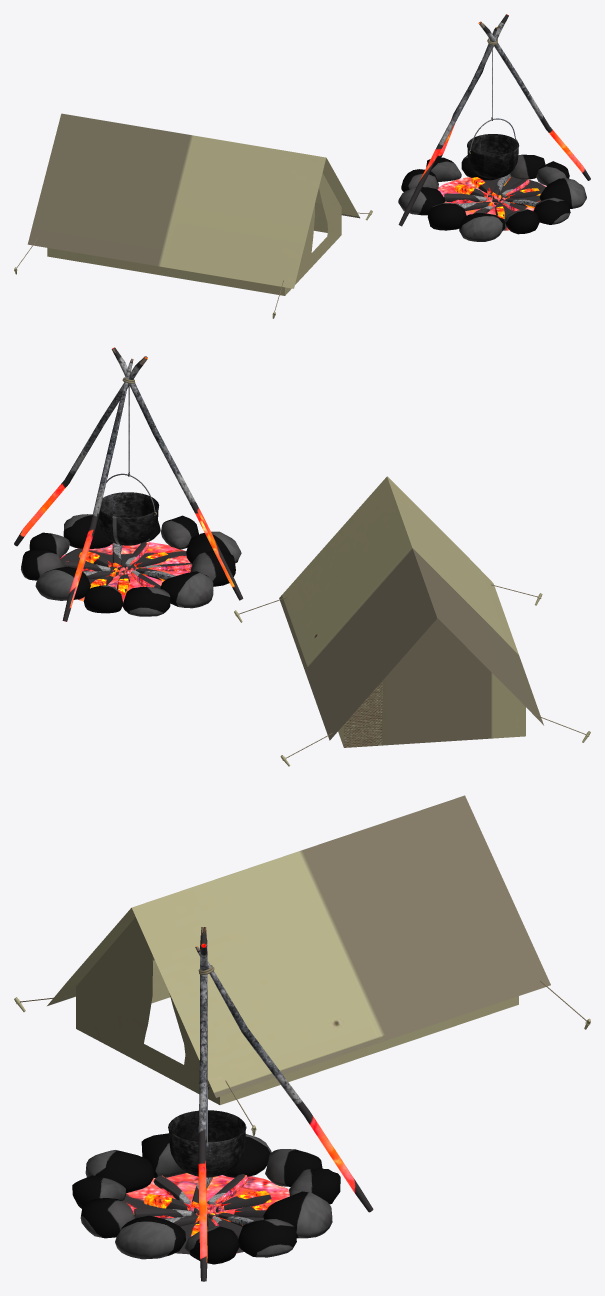
File: CampFirewithAtlas.fbx
3 renders of one model, top to bottom at view 1: azimuth 30°, elevation 25°; view 2: azimuth 150°, elevation 25°; view 3: azimuth 270°, elevation 25°, orthographic. The views are drawn at different scales.
Visible parts, largest first — view 1: camp, Rocks, woods_and_ground, utensil_and_rope; view 2: camp, Rocks, woods_and_ground, utensil_and_rope; view 3: camp, Rocks, woods_and_ground, utensil_and_rope.
Boxes of the visible parts, x1,y1,x2,y2 form: camp: (27, 113, 359, 295); Rocks: (398, 154, 586, 241); woods_and_ground: (398, 14, 590, 230); utensil_and_rope: (467, 38, 519, 178); camp: (279, 476, 543, 747); Rocks: (21, 514, 241, 616); woods_and_ground: (14, 347, 243, 621); utensil_and_rope: (98, 377, 159, 545); camp: (47, 795, 550, 1104); Rocks: (72, 1133, 340, 1264); woods_and_ground: (123, 927, 373, 1281); utensil_and_rope: (168, 965, 246, 1177).
Size of the model in its own units: 67.85 by 23.37 by 42.77.
4 materials, 4 textured.
